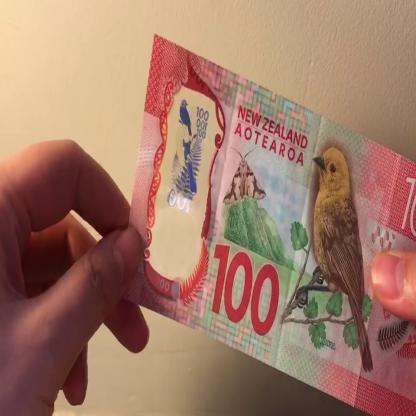100B: (166, 94, 211, 227)
